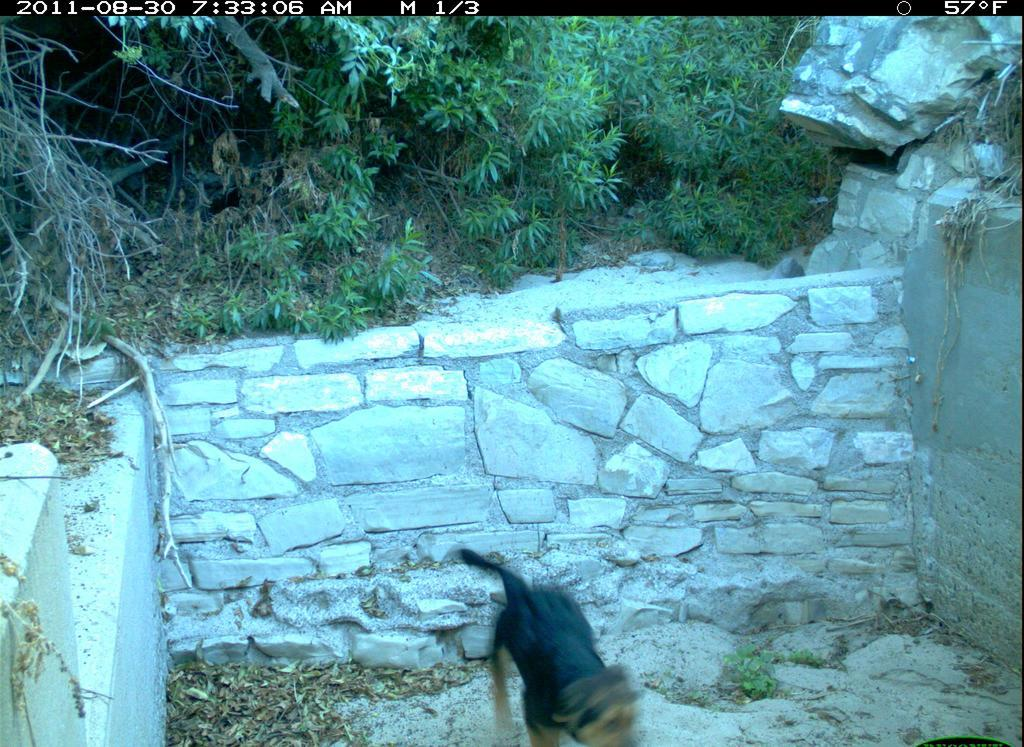dog: (459, 547, 644, 744)
